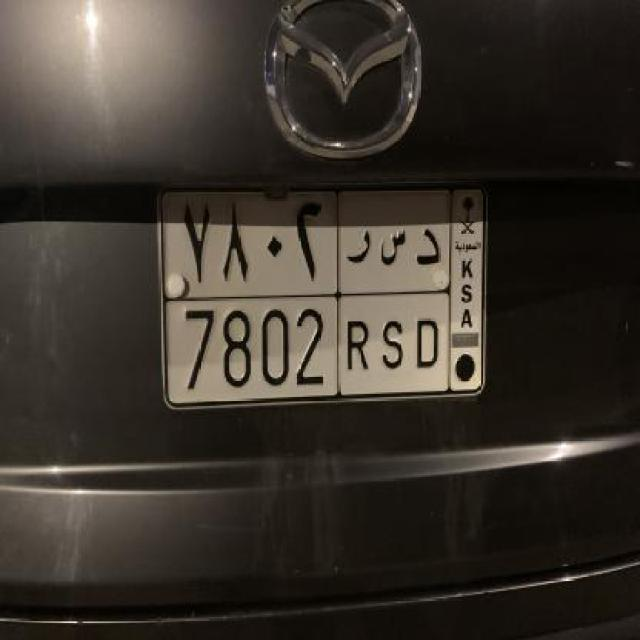license_plate: (152, 181, 492, 414)
